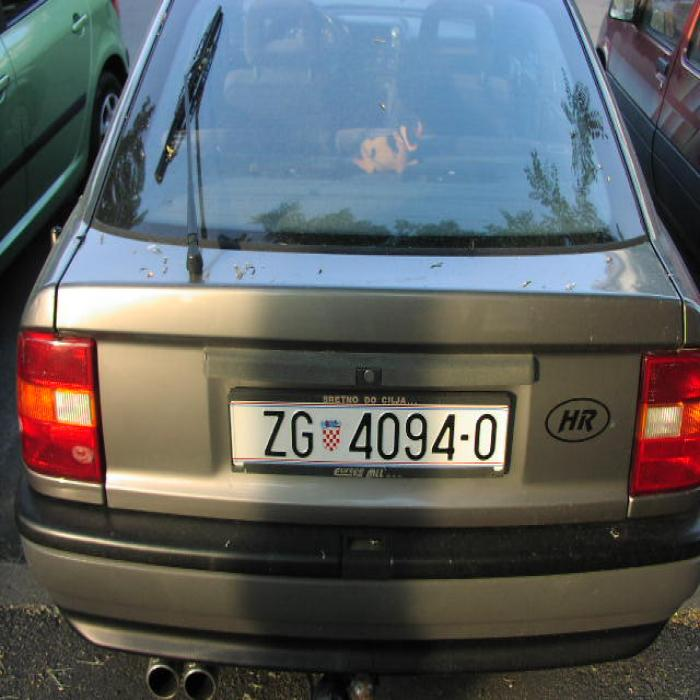number_plate: (232, 401, 503, 462)
